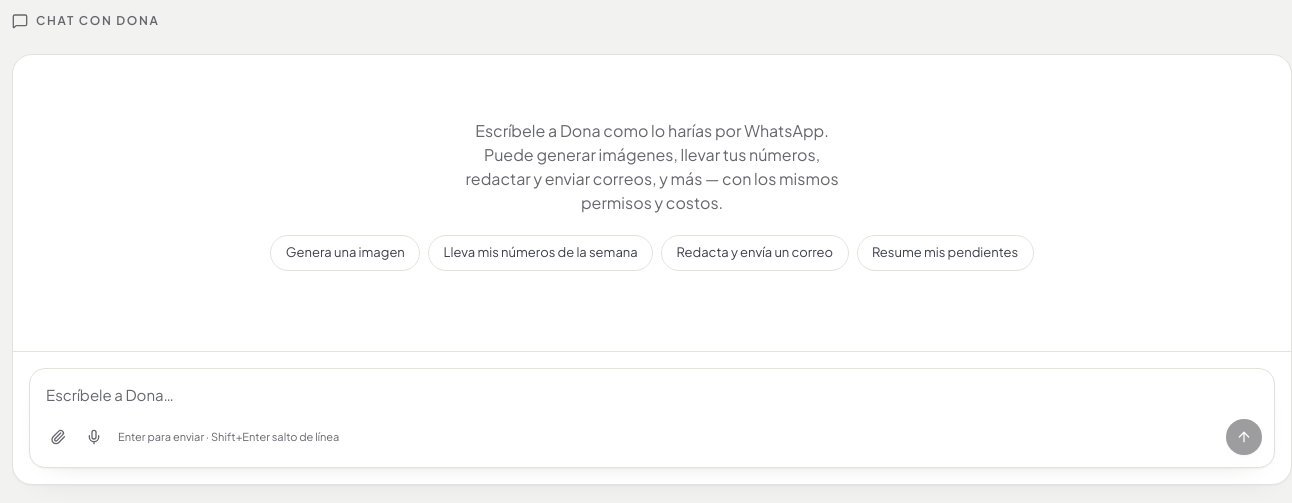
SeccionChat › muestra burbuja de error ante 5xx sin perder el turno del usuario
Type "hola" into the text box with placeholder "Escríbele a Dona…" at (652, 388), box x1=30 y1=369 x2=1274 y2=407
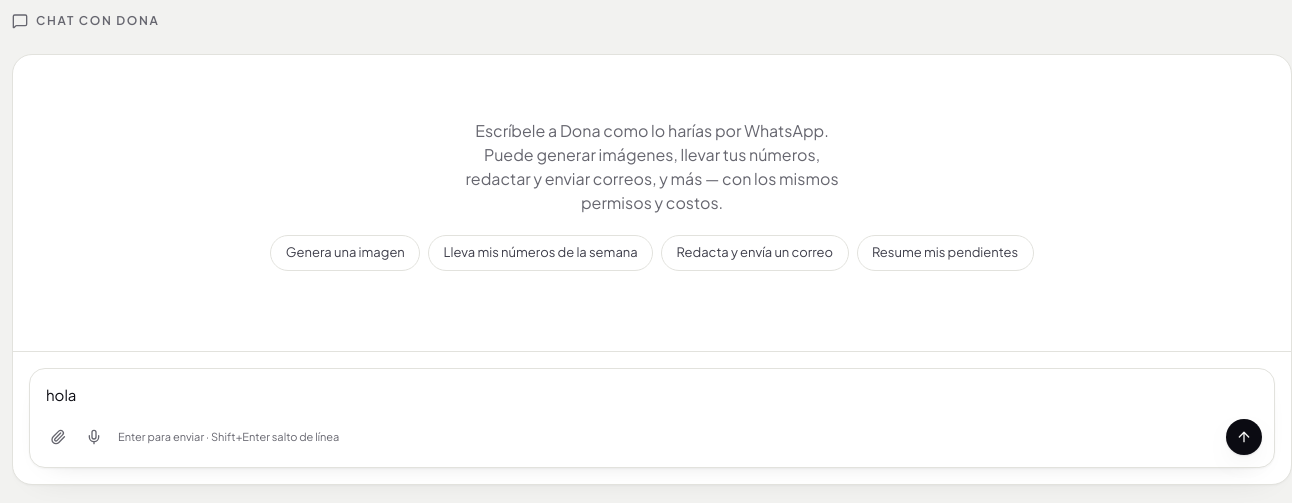
Click the button named "Enviar mensaje" at (1244, 437), box x1=1226 y1=419 x2=1262 y2=455
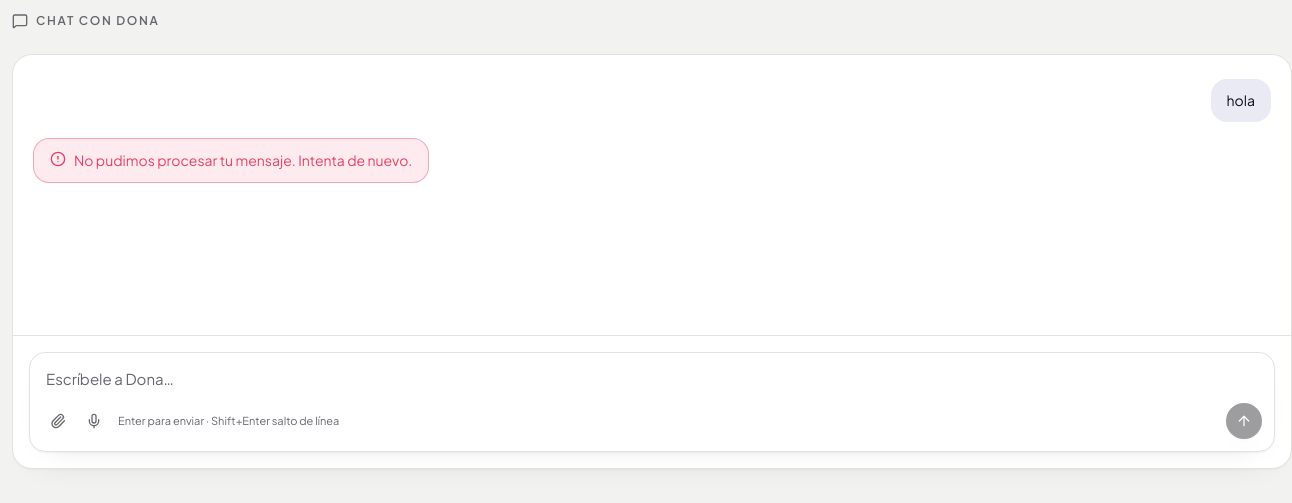
Check: the text "hola" is shown, box x1=1227 y1=91 x2=1255 y2=109
Check: the text "No pudimos procesar tu mensaje. Intenta de nuevo." is shown, box x1=74 y1=149 x2=412 y2=172
